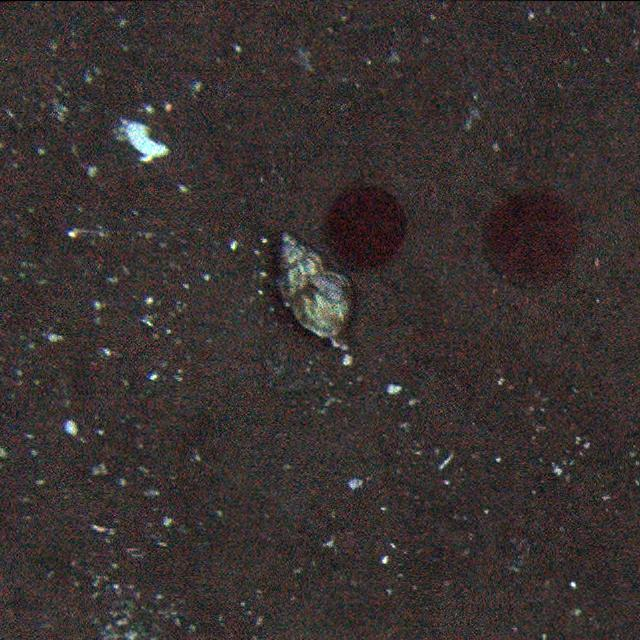whelk: (274, 230, 358, 343)
